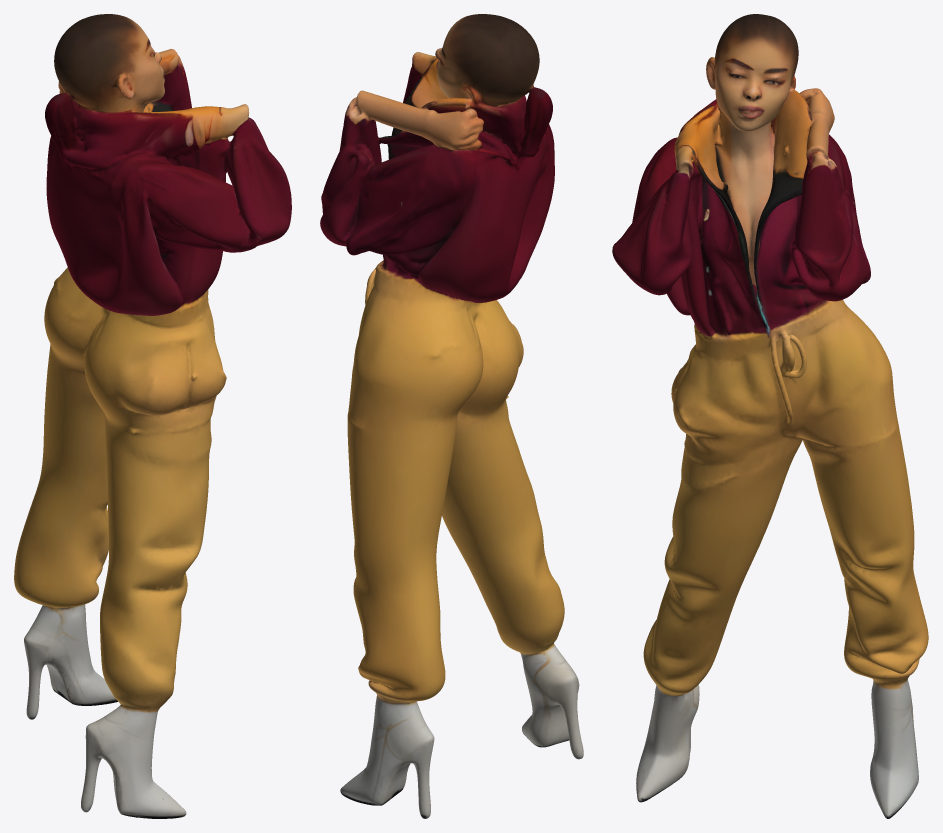
The model's file is tripo_pbr_model_acccaba9-2937-_5fbaadd3_opt.glb.
3 renders of one model, left to right at view 1: azimuth 30°, elevation 25°; view 2: azimuth 150°, elevation 25°; view 3: azimuth 270°, elevation 25°, orthographic.
Visible parts, largest first — view 1: tripo_node_acccaba9-2937-4593-b8b6-fe689c1d9b5a; view 2: tripo_node_acccaba9-2937-4593-b8b6-fe689c1d9b5a; view 3: tripo_node_acccaba9-2937-4593-b8b6-fe689c1d9b5a.
Part boxes in pixels (box(x1,y1,x2,y2)): tripo_node_acccaba9-2937-4593-b8b6-fe689c1d9b5a: box(14, 14, 291, 818); tripo_node_acccaba9-2937-4593-b8b6-fe689c1d9b5a: box(320, 14, 583, 818); tripo_node_acccaba9-2937-4593-b8b6-fe689c1d9b5a: box(612, 14, 928, 818).
Bounding box in the file's own units: 0.2667 × 1 × 0.371.
Materials: 1 (1 with a texture image).
